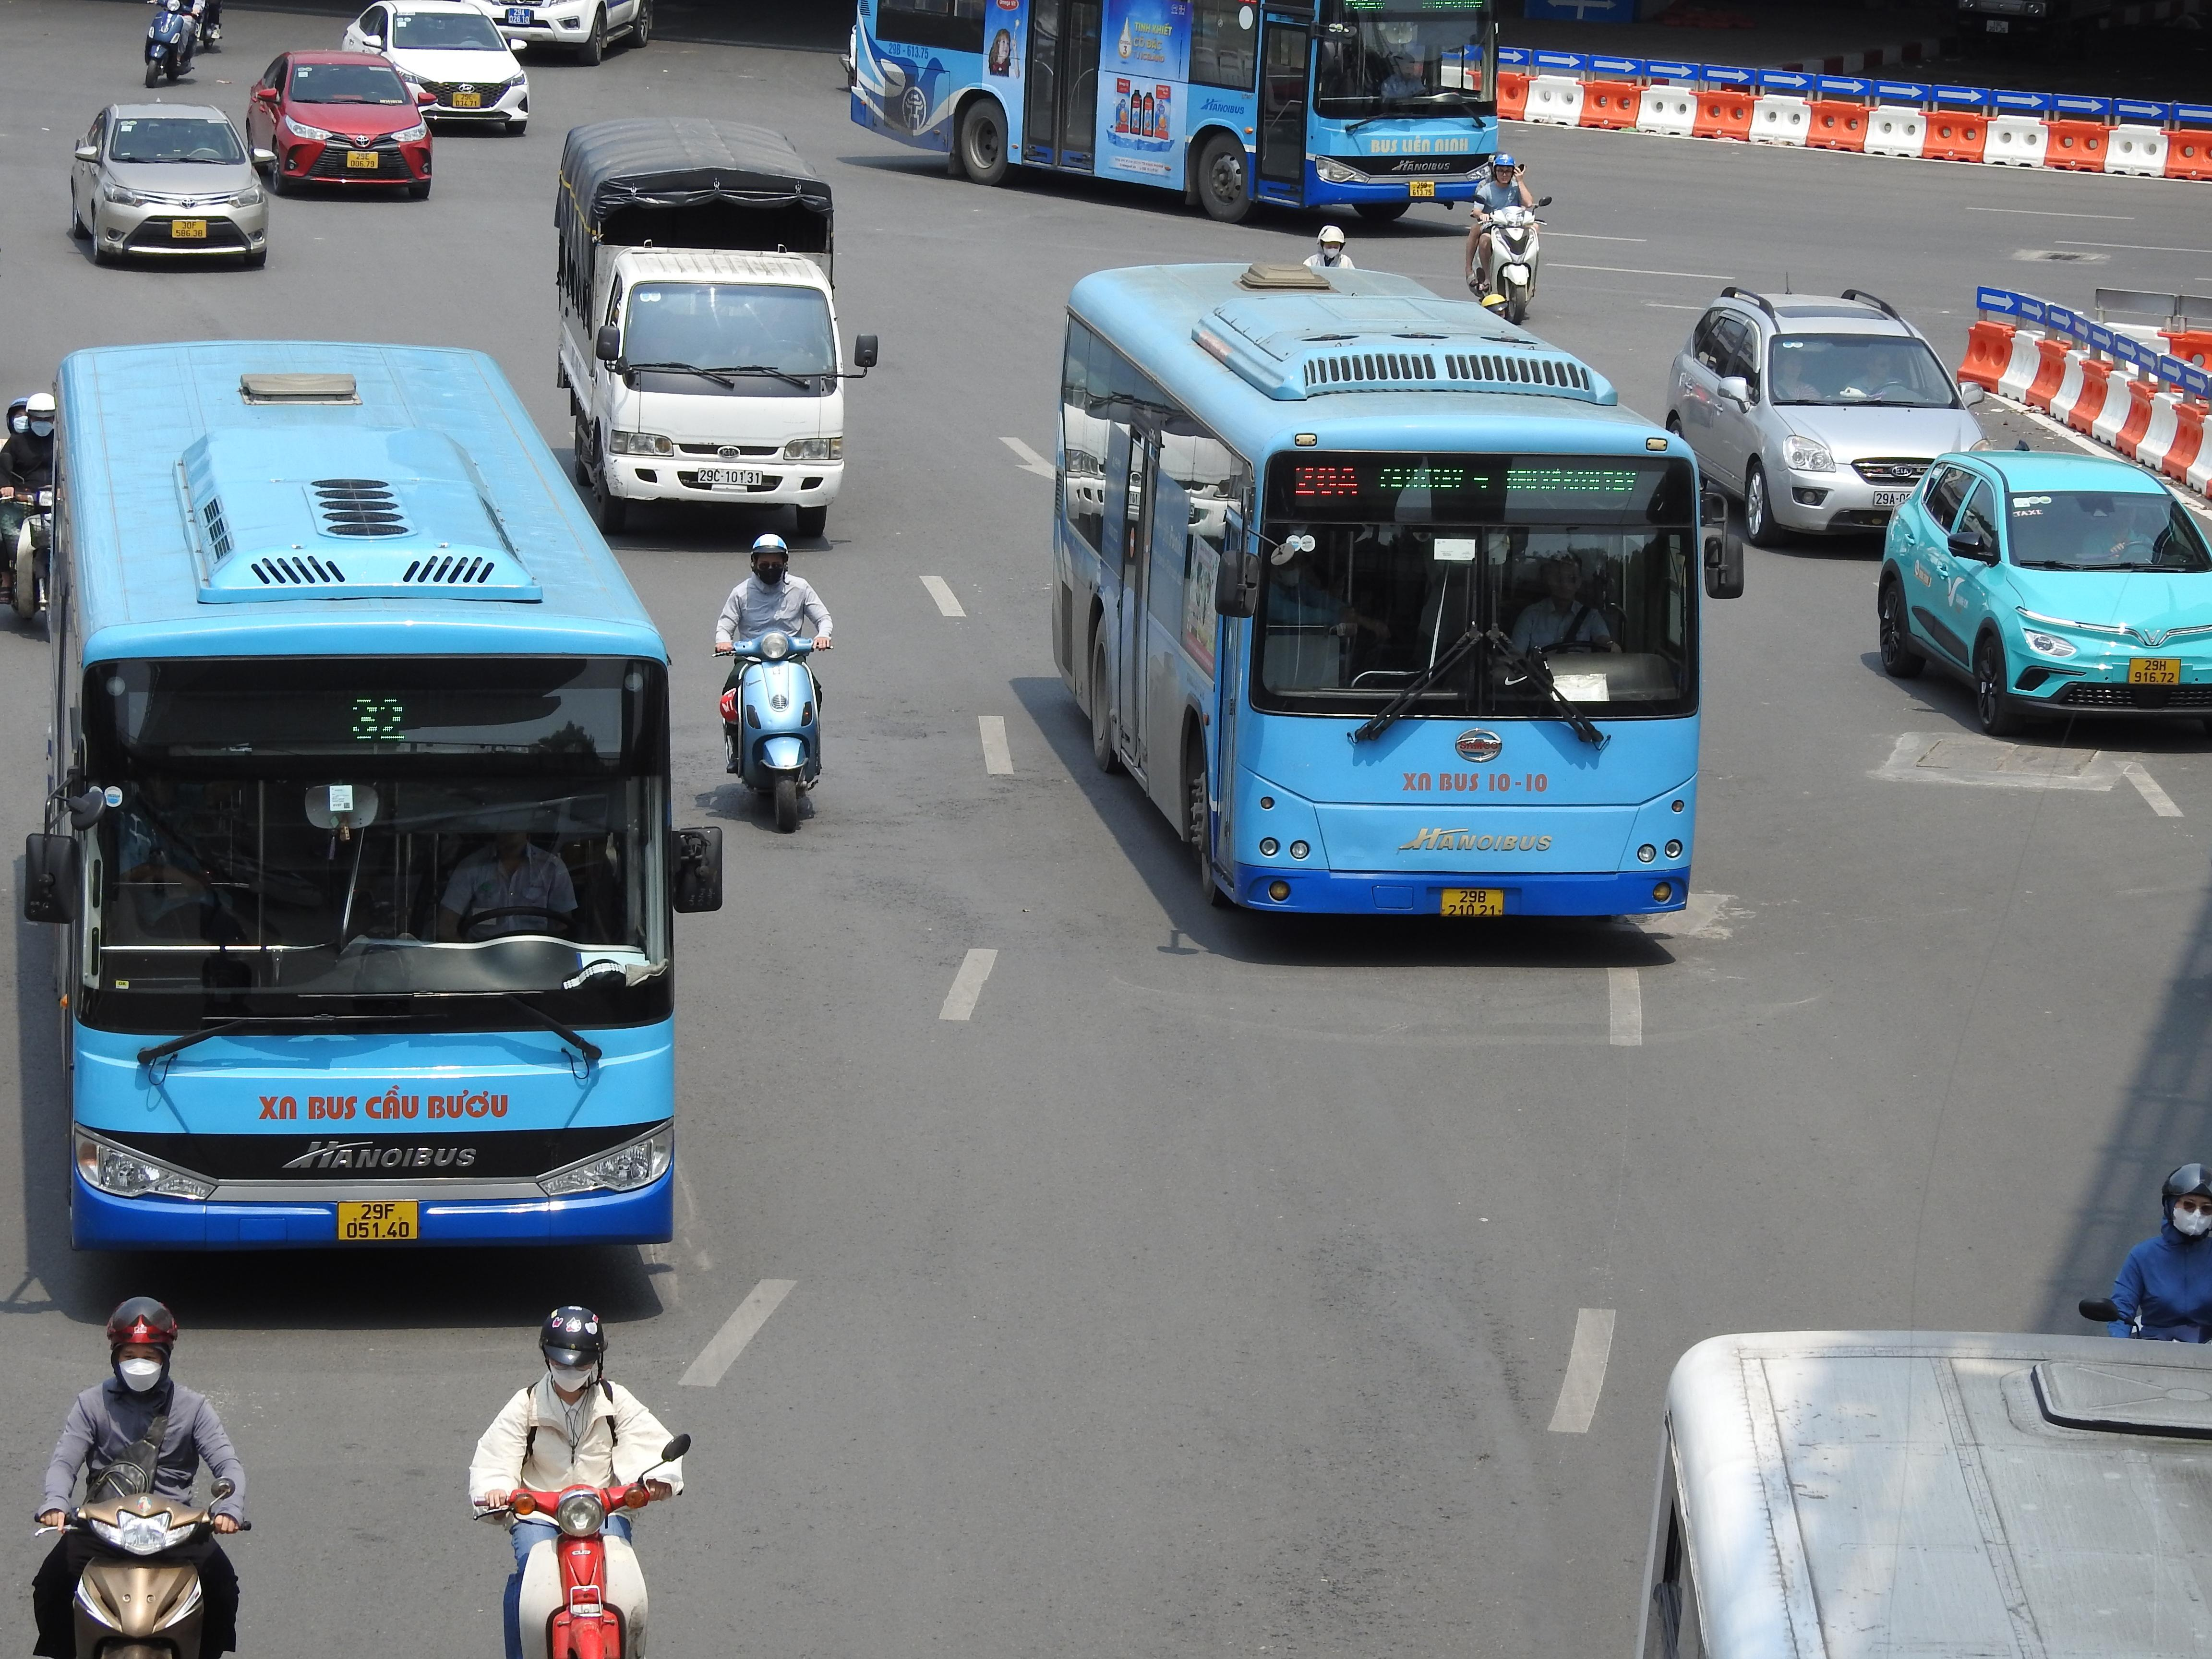BSD: (698, 467, 763, 486), (1874, 490, 1912, 505)
BSV: (336, 1201, 418, 1241), (1440, 887, 1505, 917), (2128, 659, 2182, 685), (171, 221, 207, 240), (345, 150, 378, 169), (453, 92, 481, 110), (1409, 181, 1435, 197), (509, 7, 529, 24)
bus: (14, 336, 714, 1263), (1047, 256, 1740, 922), (841, 0, 1505, 225)
car: (1874, 444, 2212, 739), (1663, 284, 1987, 549), (68, 99, 273, 270), (242, 47, 437, 200), (340, 0, 531, 134)
motorbike: (26, 1295, 251, 1659), (470, 1303, 691, 1659), (714, 532, 831, 833), (2085, 1161, 2212, 1344), (1463, 152, 1550, 324), (0, 394, 59, 634), (143, 0, 199, 87)
truck: (550, 117, 885, 528)
